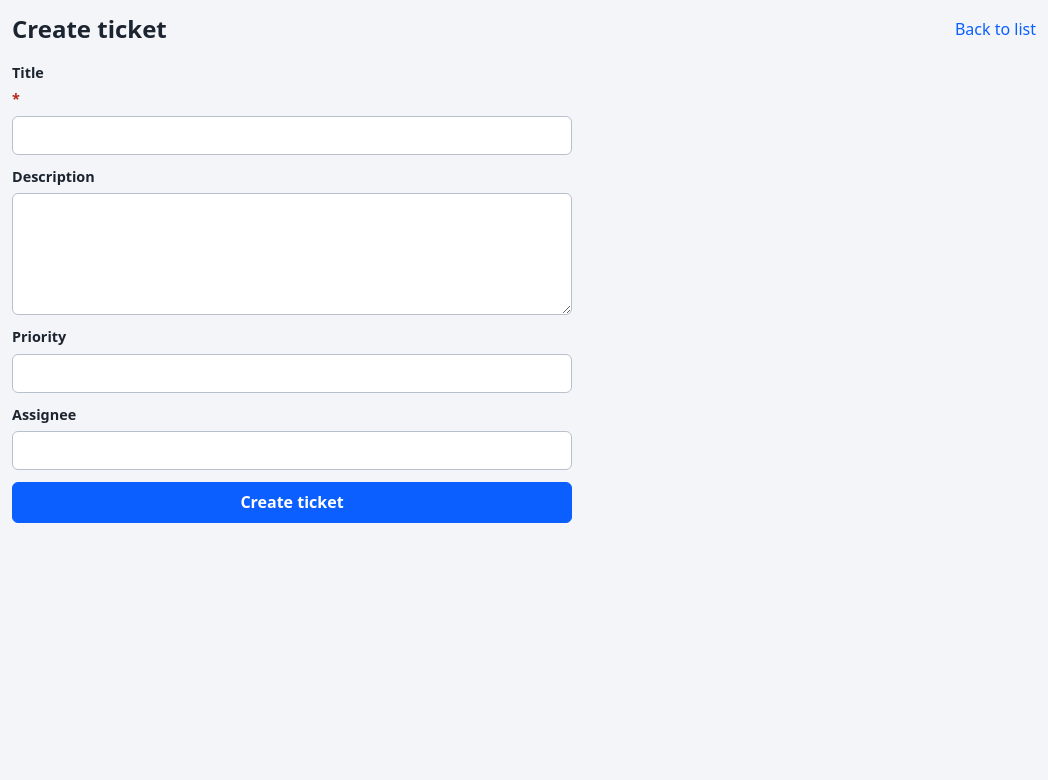
Scenario: CreateTicketPage › shows API validation errors
Step 1. Type "Bad" into the field labelled "Title *" → [292, 135], box [12,116,572,155]
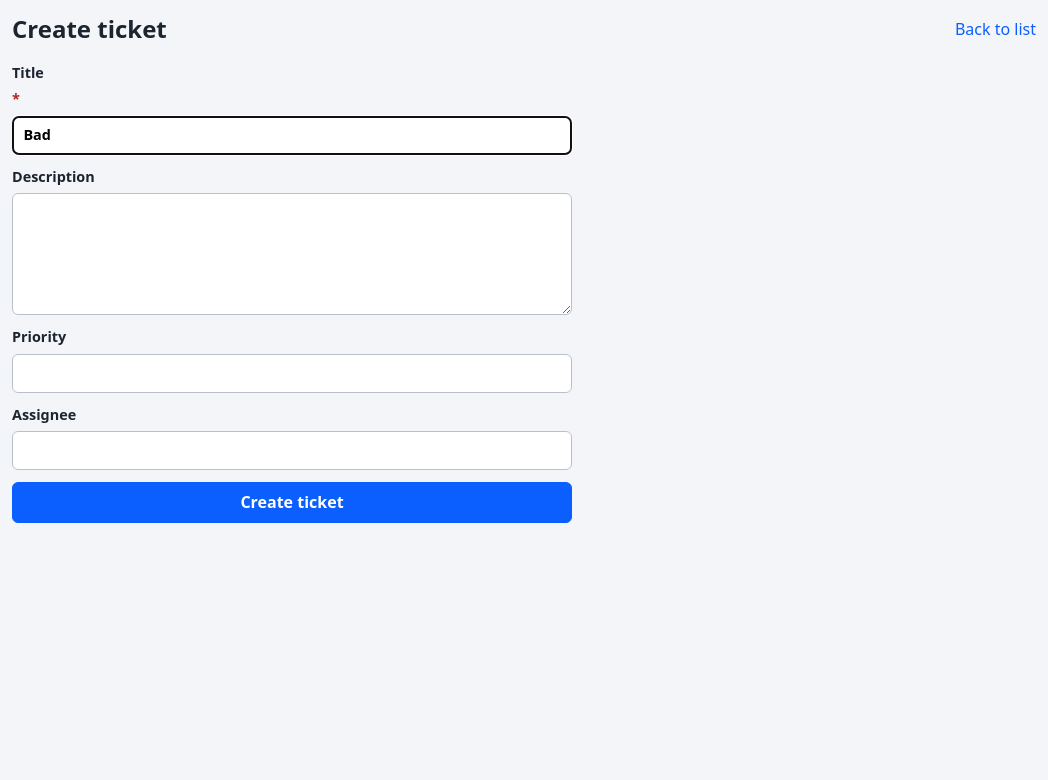
Step 2. Click the button "Create ticket" → [292, 503], box [12,482,572,523]
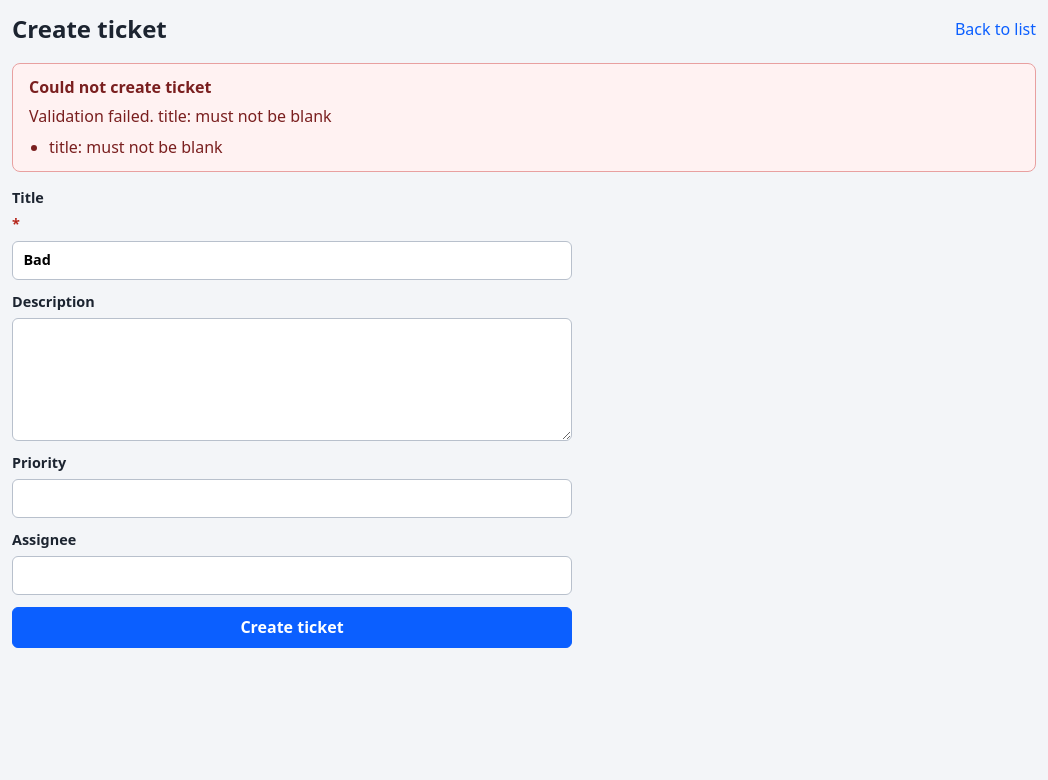
expect the text "Validation failed. title: must not be blank" is shown: met, box [29,105,332,127]
